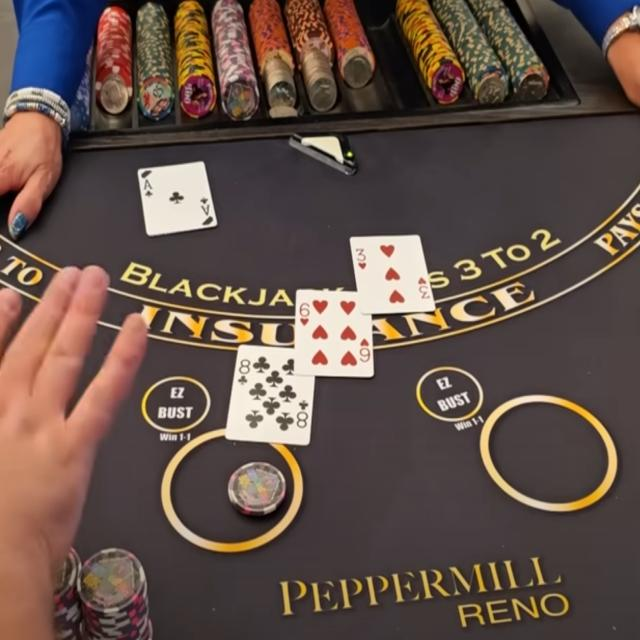3: (354, 246, 368, 263)
6: (297, 300, 313, 318)
8: (238, 356, 252, 374)
A: (141, 178, 155, 191)
